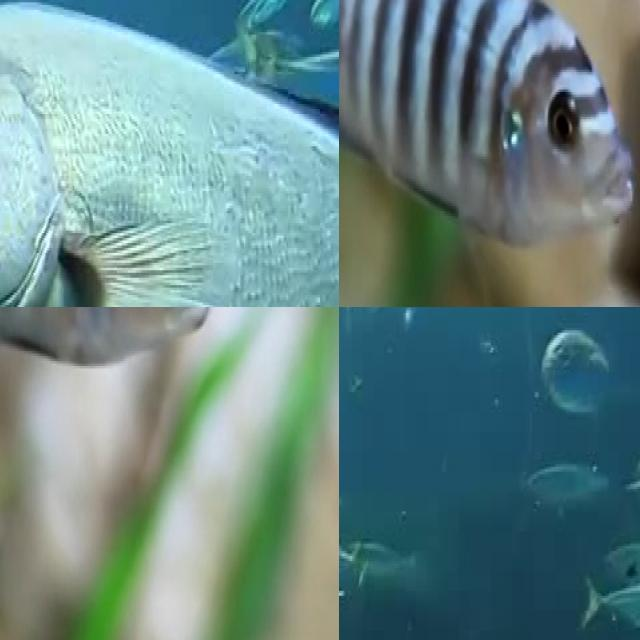fish: (0, 0, 339, 307), (339, 0, 617, 256)
